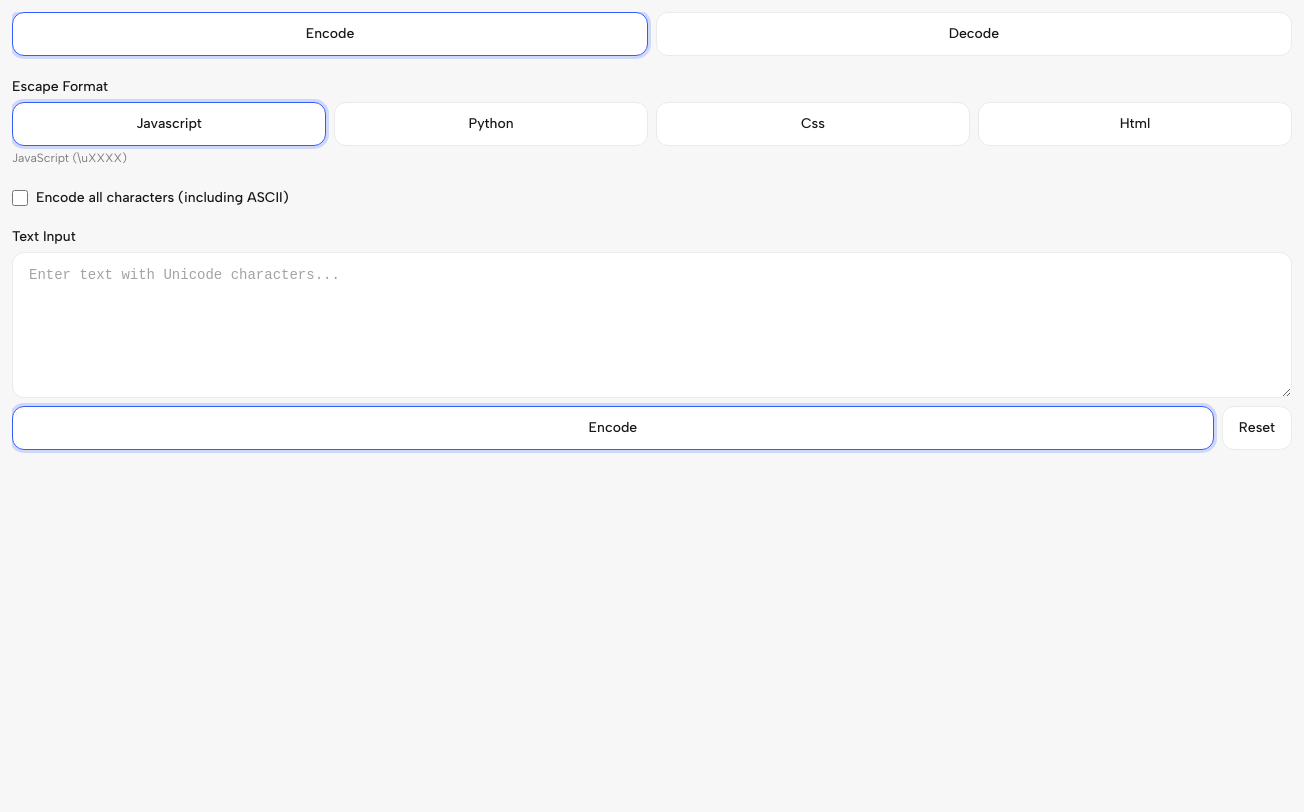
Test case: UnicodeEscapeTool › decodes JavaScript Unicode escape to text
This screenshot has width=1304, height=812.
Switch to decode mode
Click the button "Decode": (974, 34) [656,12,1292,56]
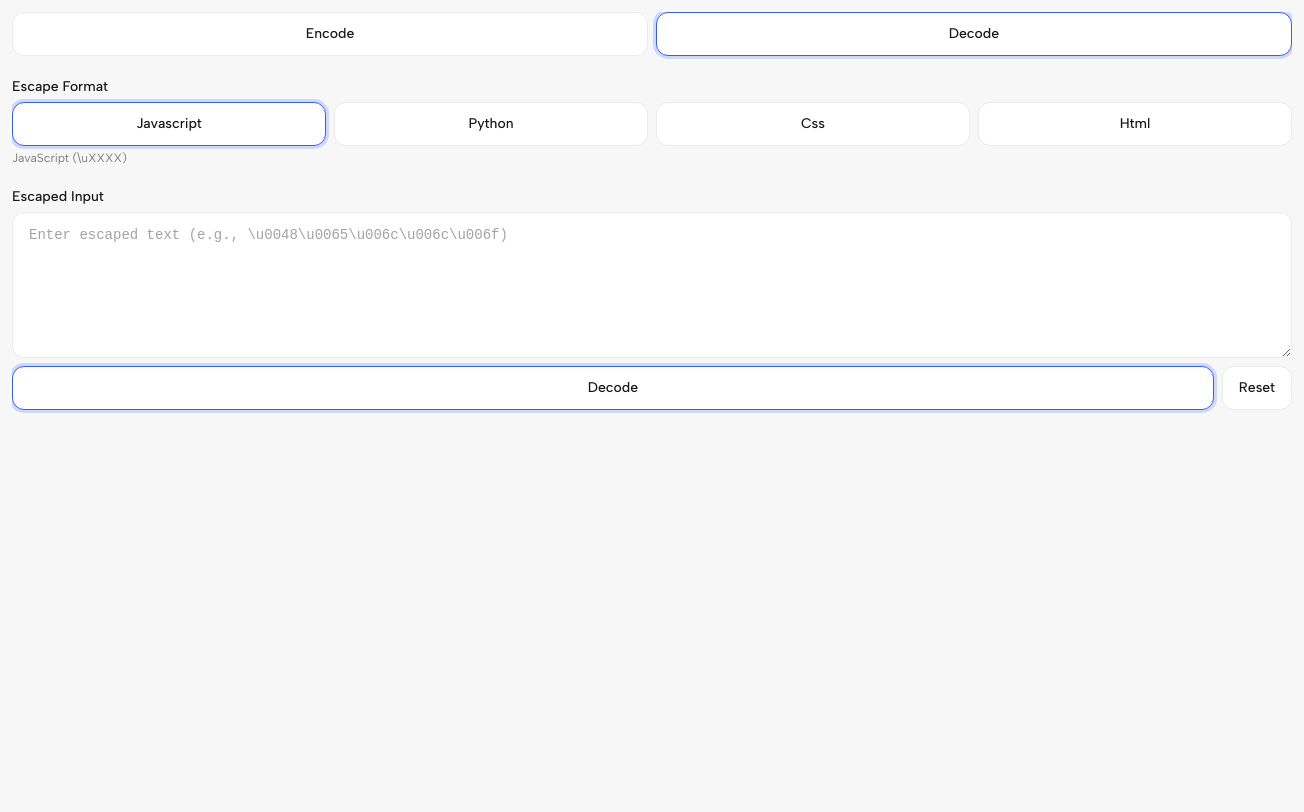
In the text box with placeholder "Enter escaped text (e.g., \\u0048\\u0065\\u006c\\u006c\\u006f)": (652, 285) [12,212,1292,358], type "\\u0048\\u0065\\u006c\\u006c\\u006f"
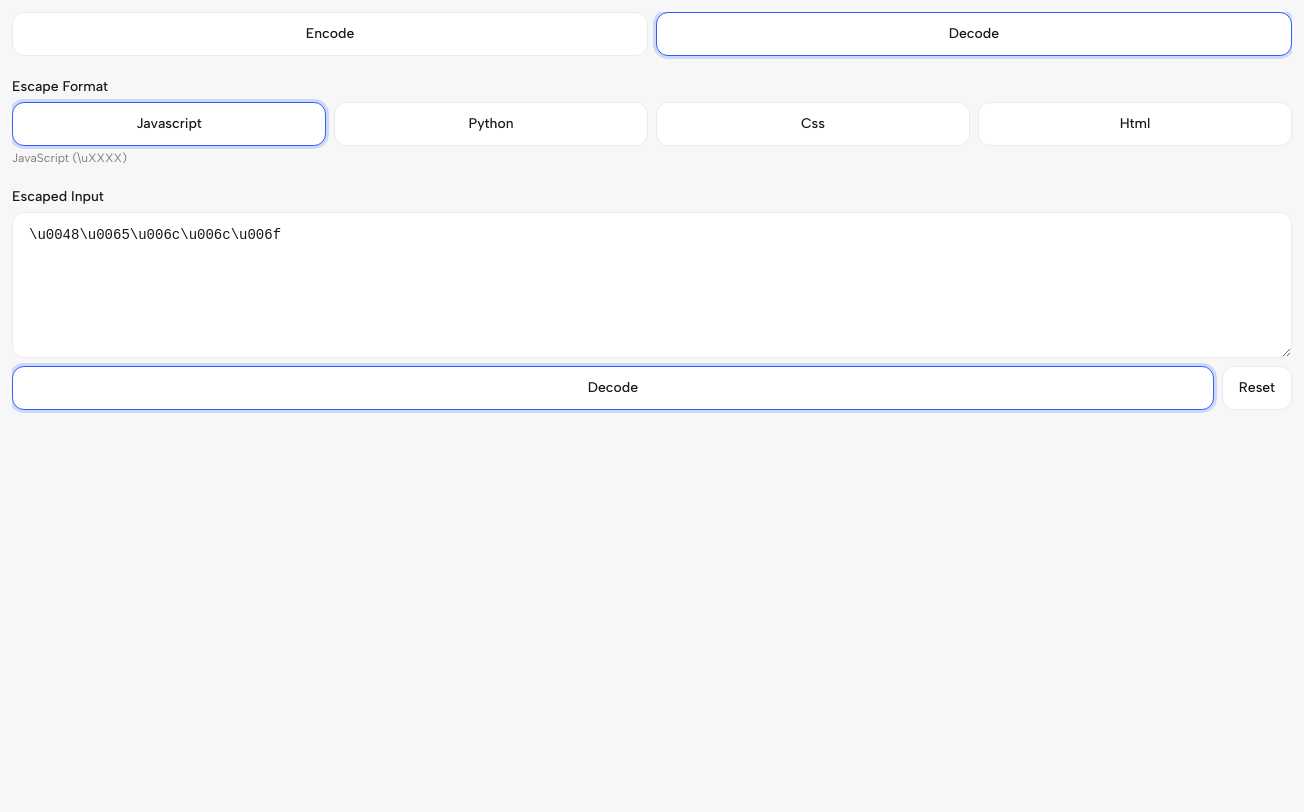
Click the button "Decode" below "Escaped Input": (613, 388) [12,366,1214,410]
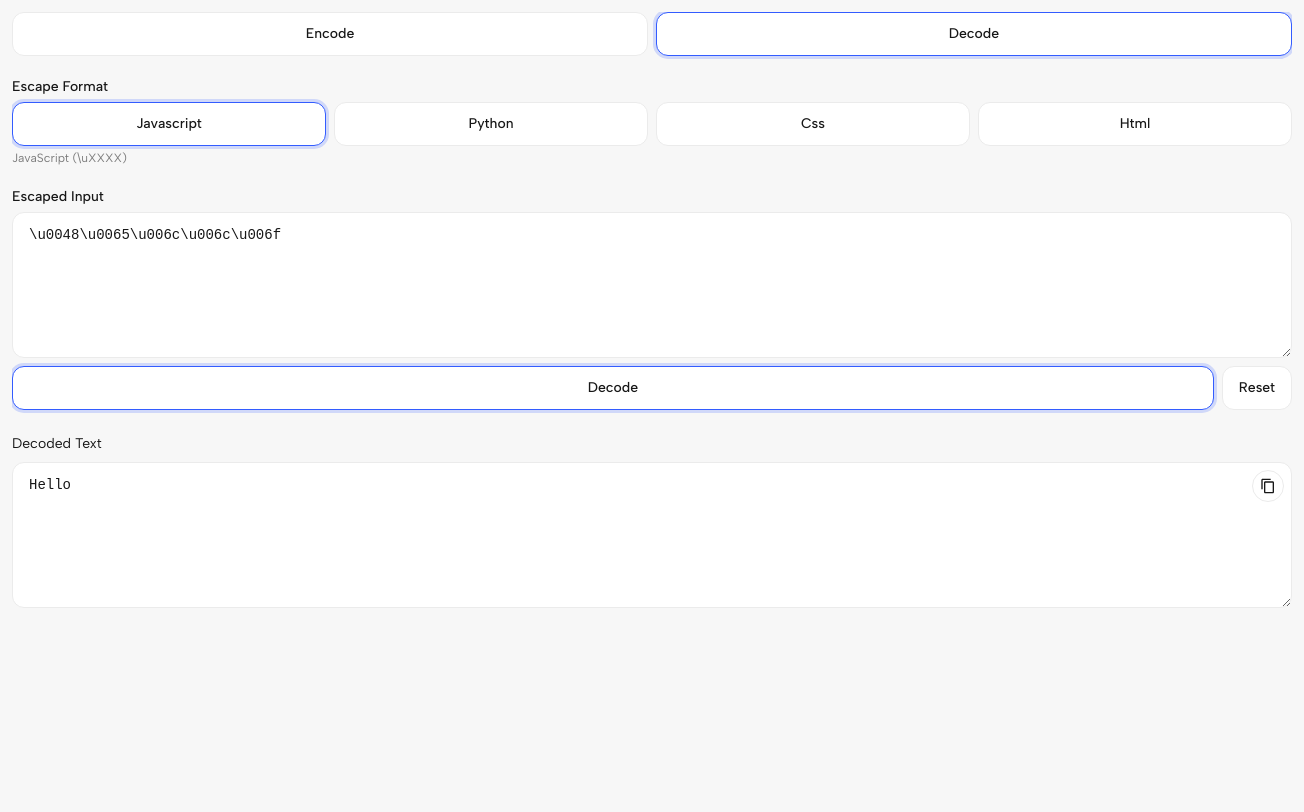
Now the text "Decoded Text" is shown, box [12,435,102,452]
Now the text box below "Decoded Text" holds "Hello", box [12,462,1292,608]
